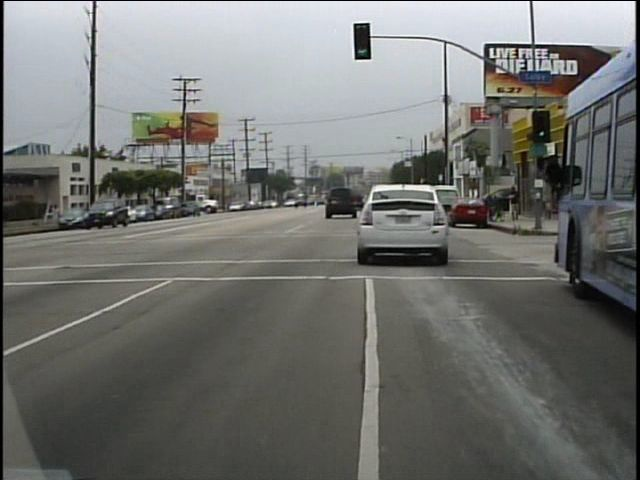person: (505, 181, 526, 229), (60, 202, 61, 229)
